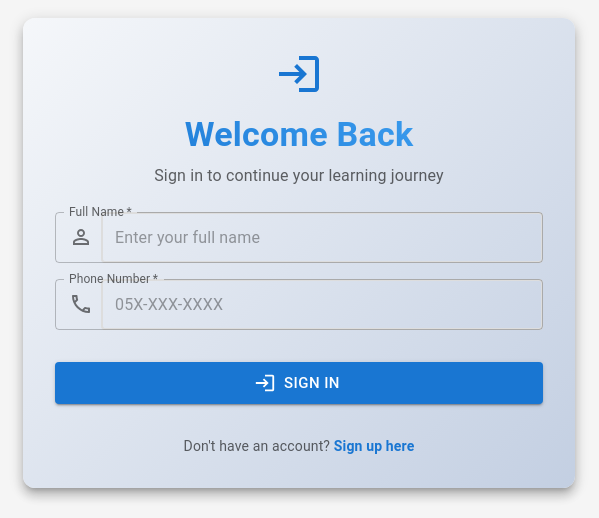
Test: LoginForm Component › allows user to type in form fields
Type "John Doe" into the field labelled "Full Name *" at (322, 237), box x1=101 y1=212 x2=543 y2=263
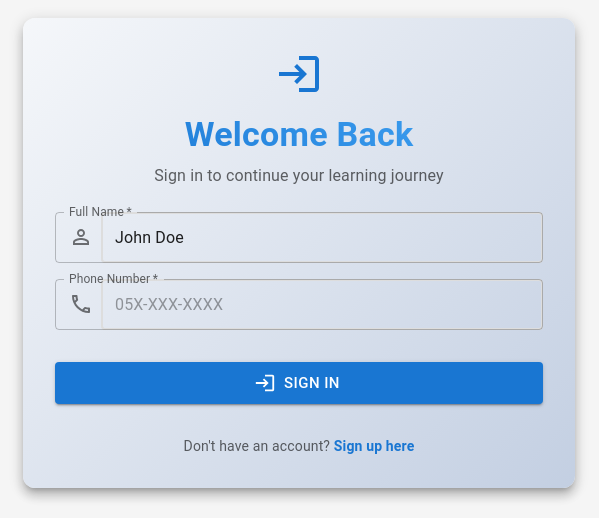
Type "0501234567" into the field labelled "Phone Number *" at (322, 304), box x1=101 y1=279 x2=543 y2=330
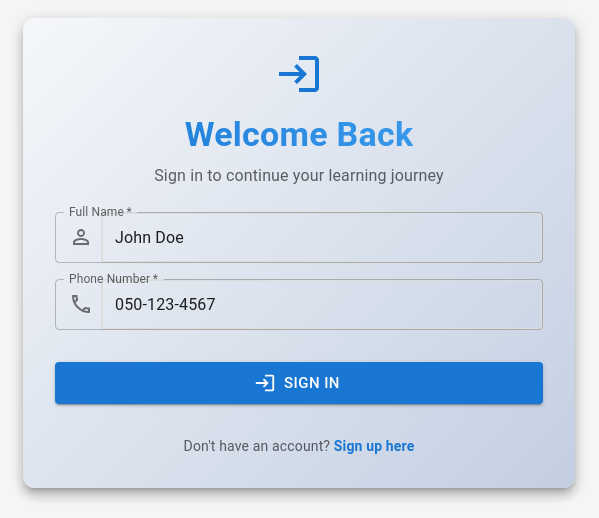
Result: the field labelled "Phone Number *" holds "050-123-4567" at x1=101 y1=279 x2=543 y2=330
